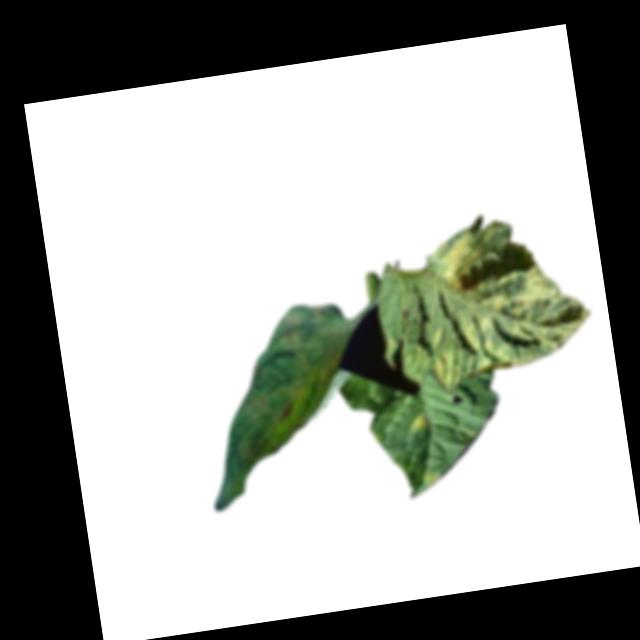Leaf_Mold: (409, 201, 592, 393), (278, 297, 355, 414), (407, 410, 432, 436)
